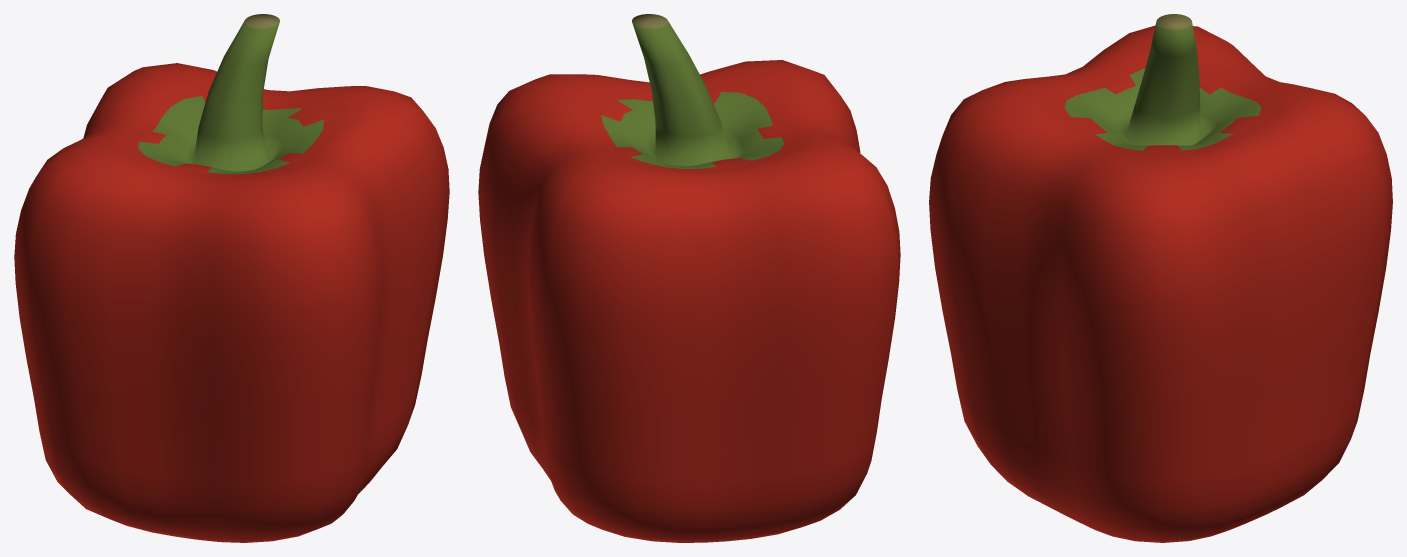
File: A-NEW-20261027-BELL-PEPPER-001_LOD2_R2.glb
3 views of the same model, side by side, from view 1: azimuth 30°, elevation 25°; view 2: azimuth 150°, elevation 25°; view 3: azimuth 270°, elevation 25° (orthographic). The views are drawn at different scales.
Visible parts, largest first — view 1: original four lobed pepper body calyx and thick stalk; view 2: original four lobed pepper body calyx and thick stalk; view 3: original four lobed pepper body calyx and thick stalk.
Boxes of the visible parts, x1=… form: original four lobed pepper body calyx and thick stalk: x1=14, y1=14, x2=449, y2=542; original four lobed pepper body calyx and thick stalk: x1=478, y1=14, x2=900, y2=542; original four lobed pepper body calyx and thick stalk: x1=929, y1=14, x2=1392, y2=542.
Size of the model in its own units: 0.088 by 0.0962 by 0.0828.
